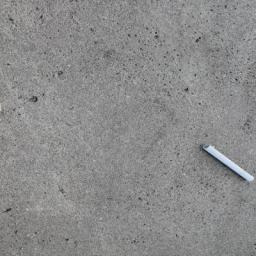FOD: (201, 142, 256, 185)
